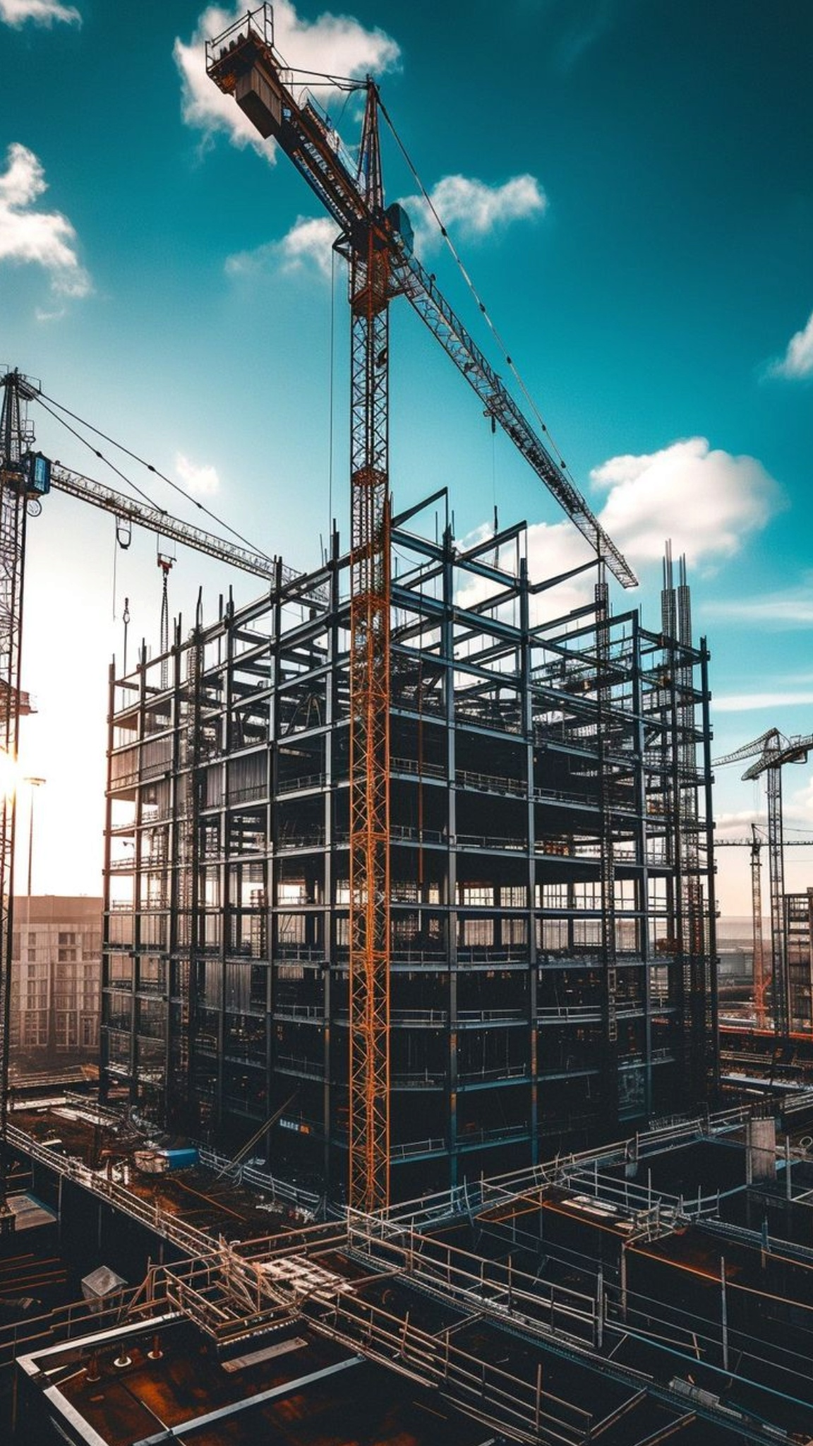crane: (186, 22, 569, 1290), (12, 338, 316, 999), (685, 693, 802, 1129)
